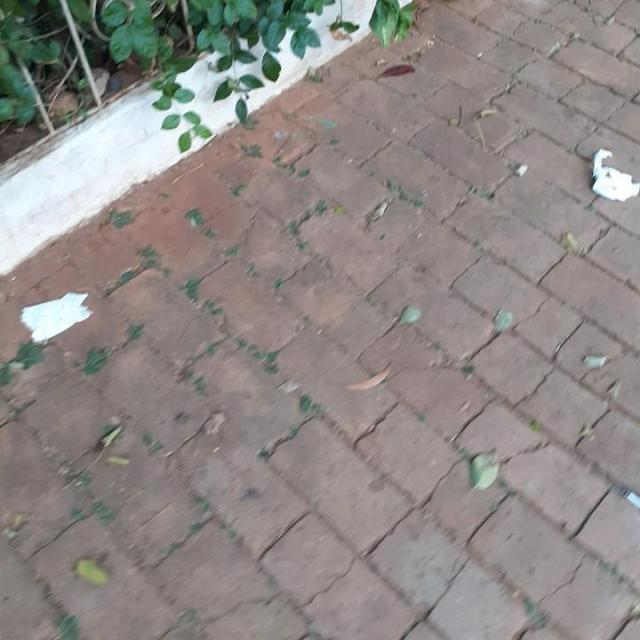litter: (21, 279, 103, 353), (574, 136, 638, 215)
